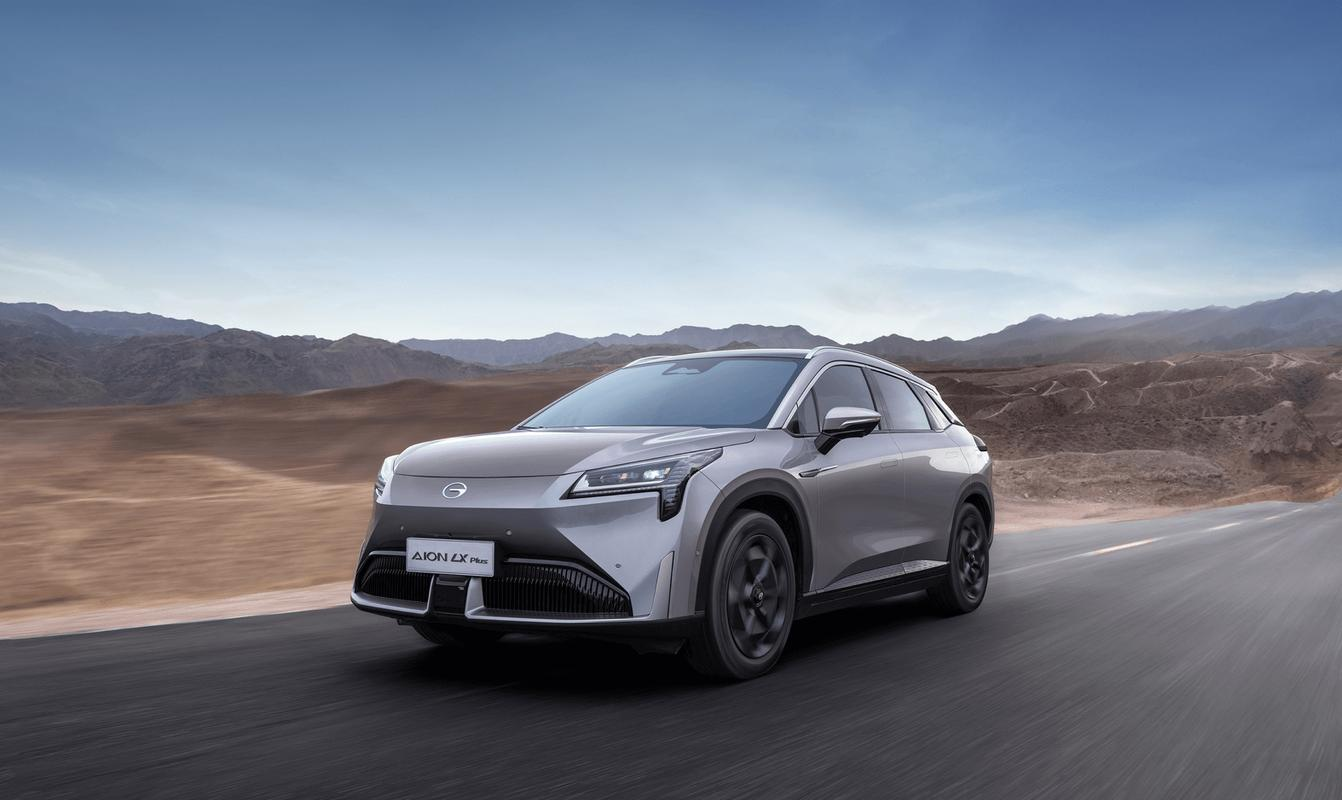汽车: (344, 330, 1000, 689)
